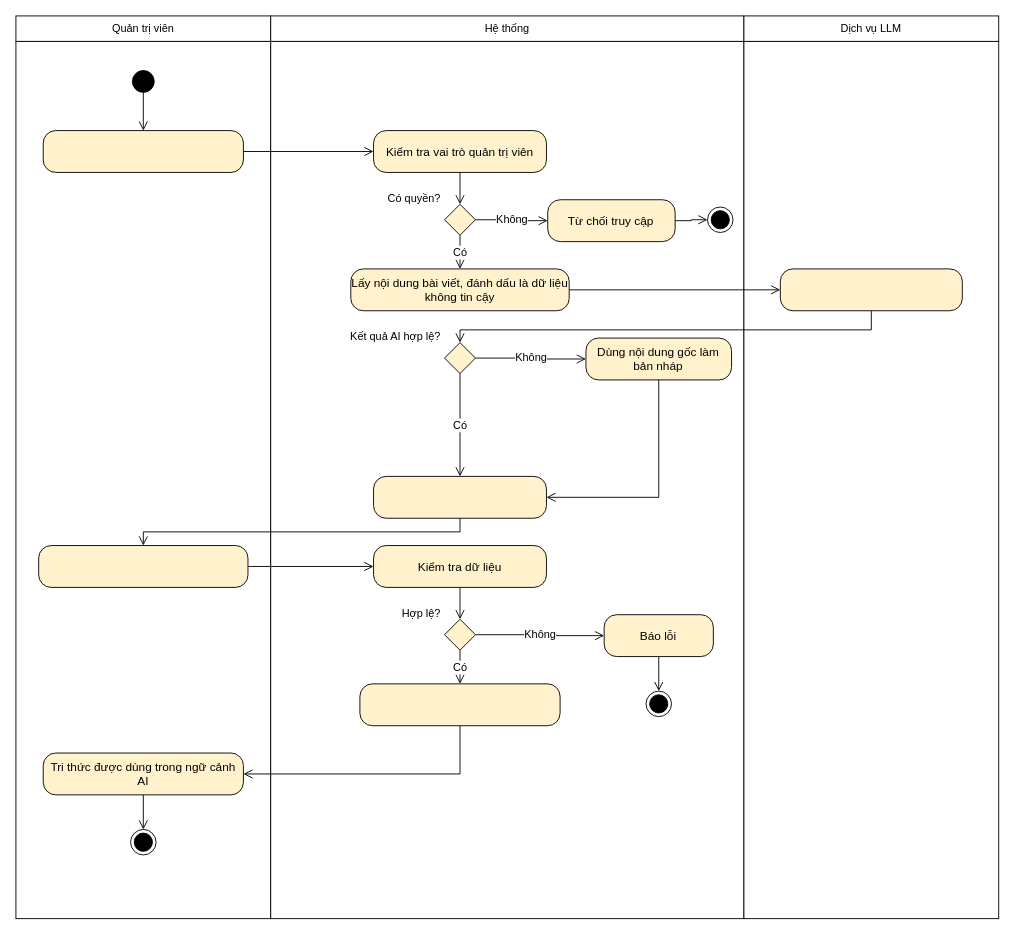
This 1015x935 diagram has some shape labels left out. The shapes that lost their labels are listed below. From the top down, each one's centre as x and y in pixels, then its label:
At [142,151]: "Chọn “Trích xuất tri thức” trên bài viết".
At [870,289]: "Tóm tắt thành mục tri thức có cấu trúc".
At [459,496]: "Hiển thị bản nháp tri thức".
At [143,566]: "Chỉnh danh mục, tiêu đề, nội dung, độ ưu tiên; xác nhận".
At [459,704]: "Lưu mục tri thức, liên kết với bài viết".
